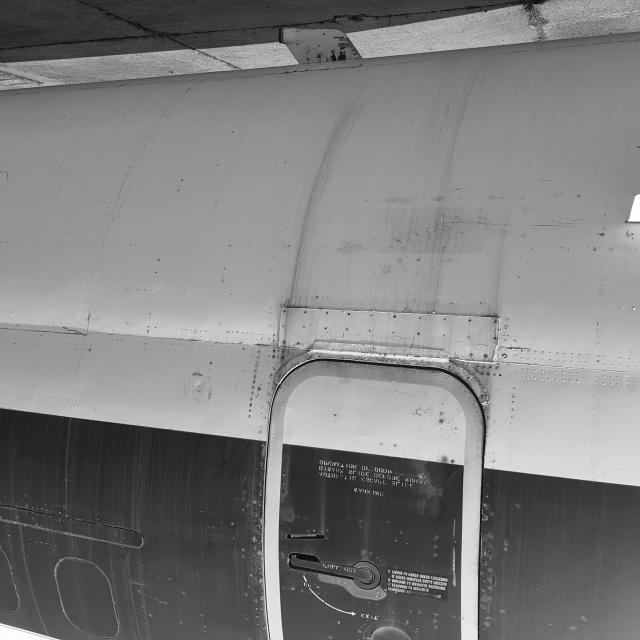crack: (58, 320, 92, 338)
